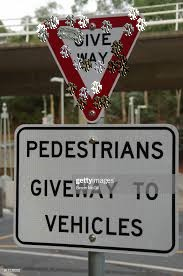giveway: (39, 13, 143, 119), (85, 16, 137, 123), (45, 14, 99, 117), (41, 18, 140, 59)
